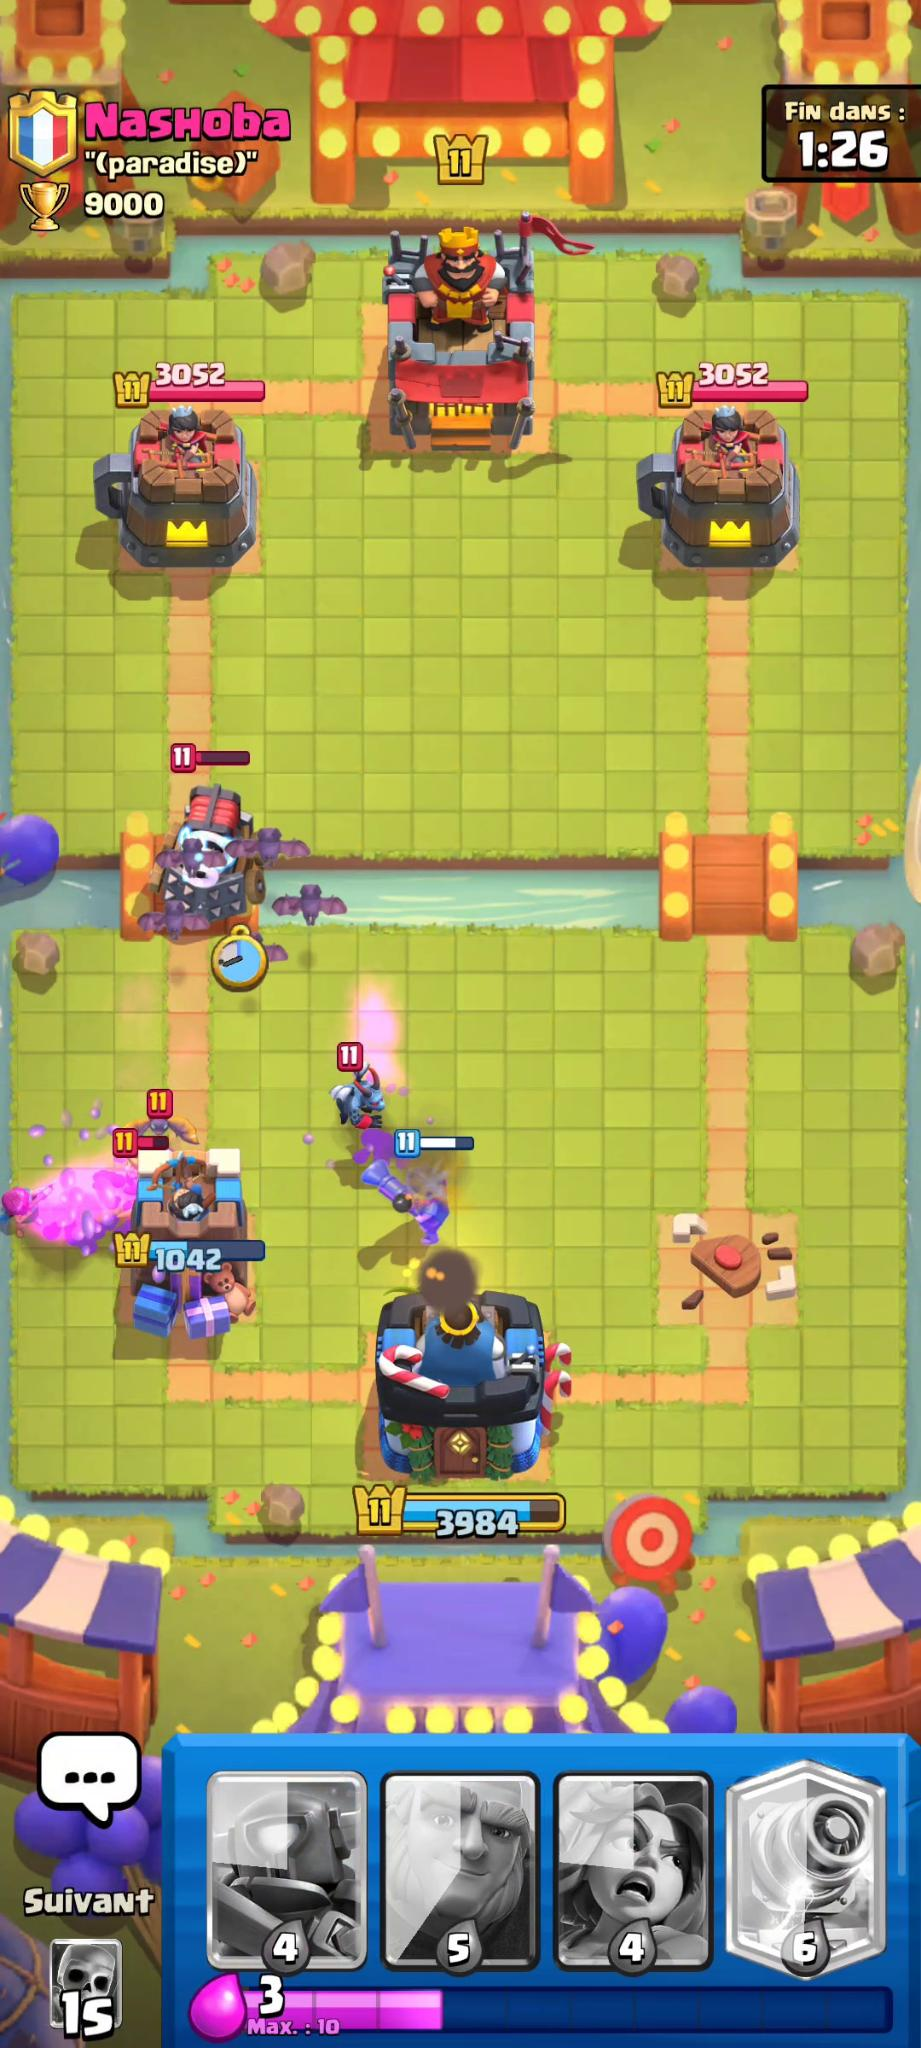bat: (280, 871, 328, 938), (163, 831, 212, 888), (127, 1104, 186, 1144), (255, 816, 291, 879), (239, 933, 278, 972), (142, 892, 178, 931)
gargouille: (334, 1074, 389, 1131)
gobelin: (392, 1153, 451, 1264), (124, 1151, 169, 1202)
zappy: (180, 771, 234, 926)
